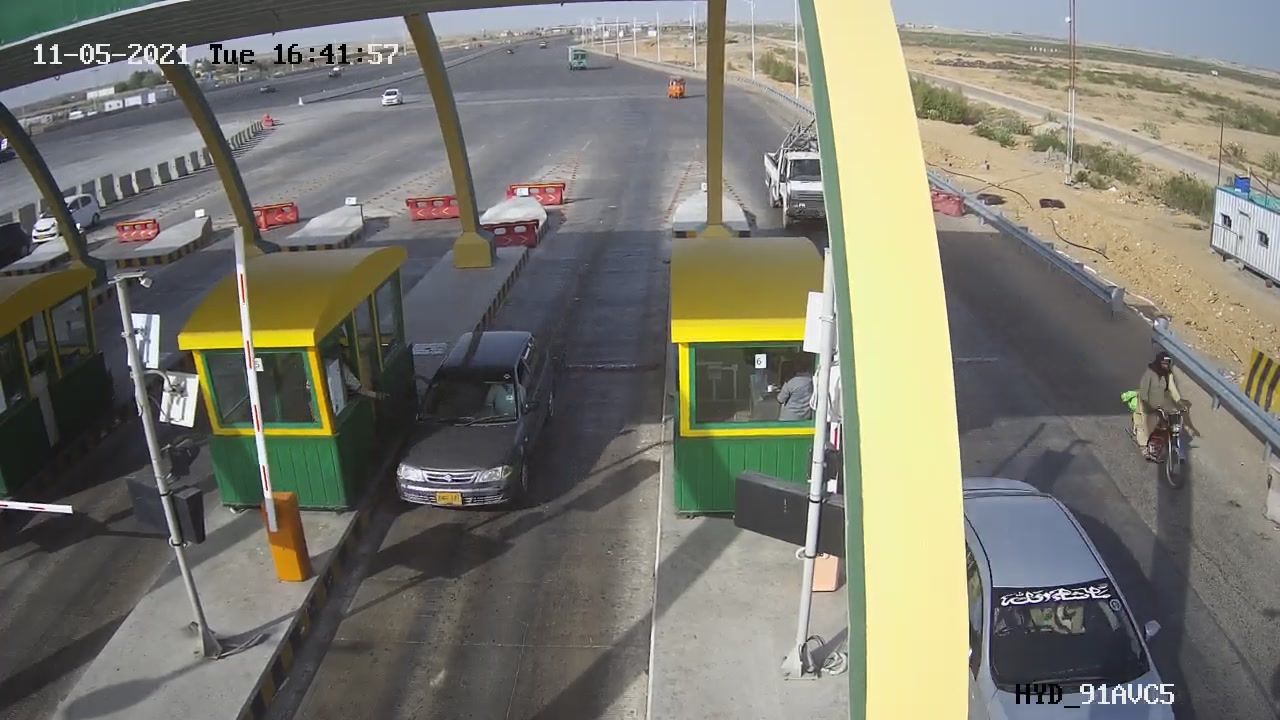F1: (367, 315, 579, 534)
